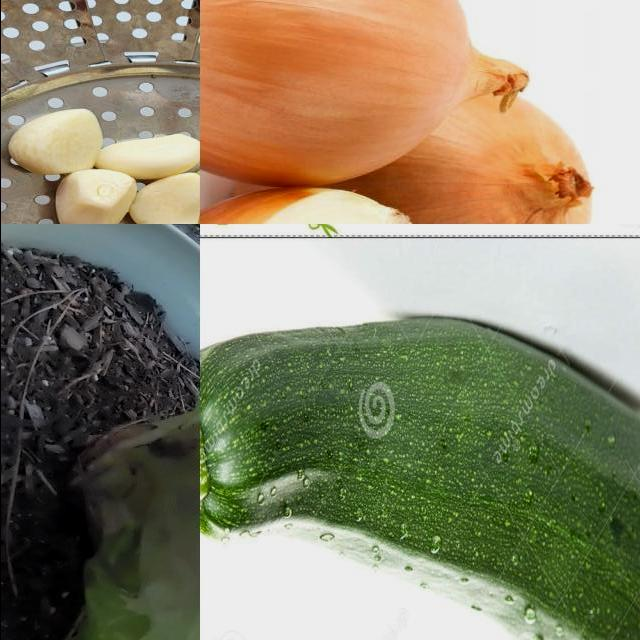cabbage: (60, 370, 200, 640)
garlic: (1, 106, 200, 225)
onion: (200, 1, 529, 187), (225, 87, 595, 225)
zucchini: (200, 309, 640, 640)
